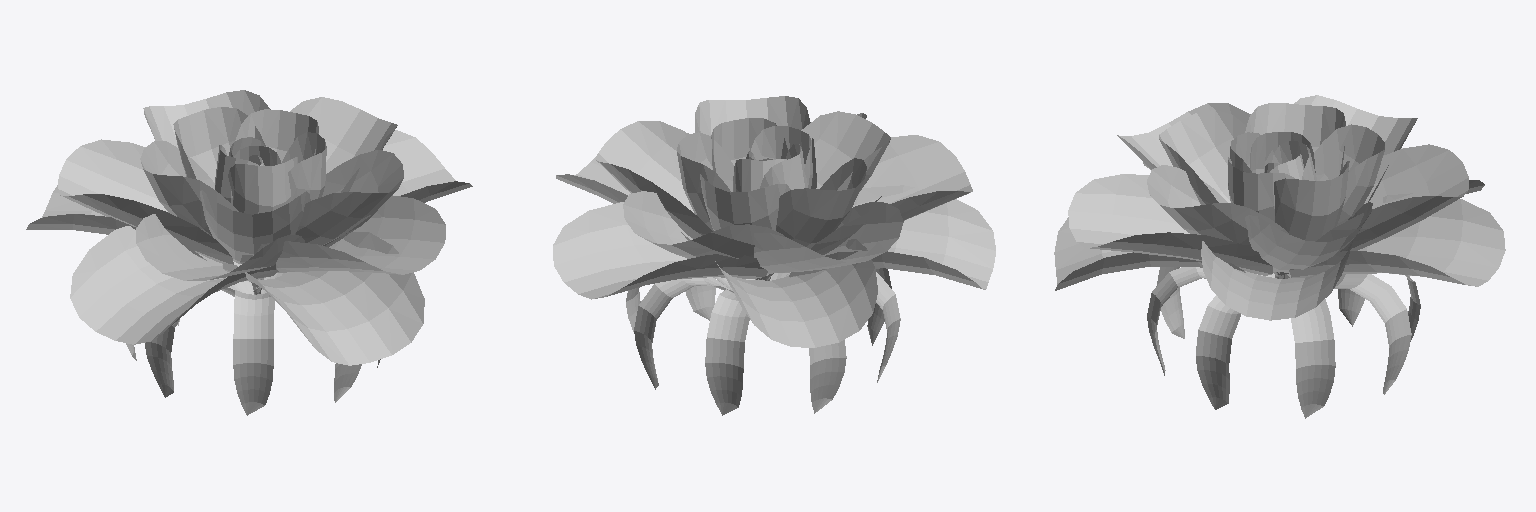
File: FlowerTopModel_03_seq_0041.obj
3 renders of one model, left to right at view 1: azimuth 30°, elevation 25°; view 2: azimuth 150°, elevation 25°; view 3: azimuth 270°, elevation 25°, orthographic.
Visible parts, largest first — view 1: FlowerTopModel_03; view 2: FlowerTopModel_03; view 3: FlowerTopModel_03.
Part boxes in pixels (x1,y1,x2,y2): FlowerTopModel_03: (26, 90, 472, 415); FlowerTopModel_03: (553, 96, 995, 415); FlowerTopModel_03: (1054, 95, 1505, 418).
Bounding box in the file's own units: 915 × 495 × 909.